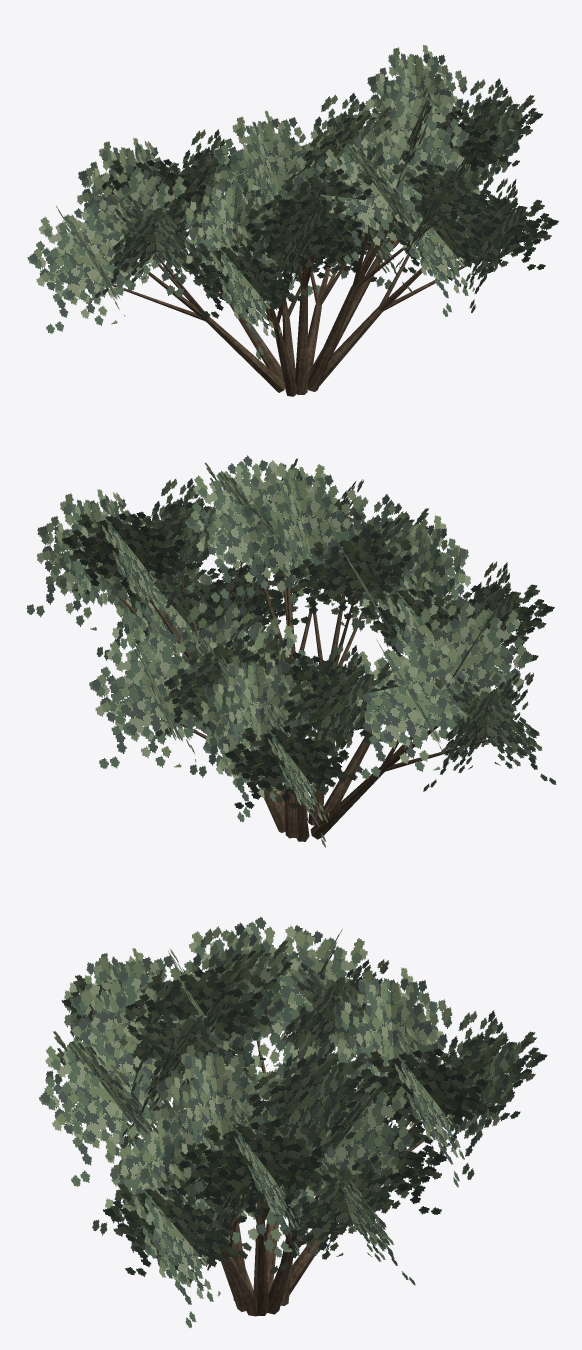
The model's file is bramble.gltf.
3 renders of one model, top to bottom at view 1: azimuth 30°, elevation 25°; view 2: azimuth 150°, elevation 25°; view 3: azimuth 270°, elevation 25°, orthographic. The views are drawn at different scales.
Visible parts, largest first — view 1: bramble; view 2: bramble; view 3: bramble.
Part boxes in pixels (x1,y1,x2,y2): bramble: [27, 44, 558, 396]; bramble: [26, 455, 556, 847]; bramble: [39, 916, 547, 1327].
Size of the model in its own units: 2.16 by 1.29 by 1.69.
Materials: 2 (2 with a texture image).
